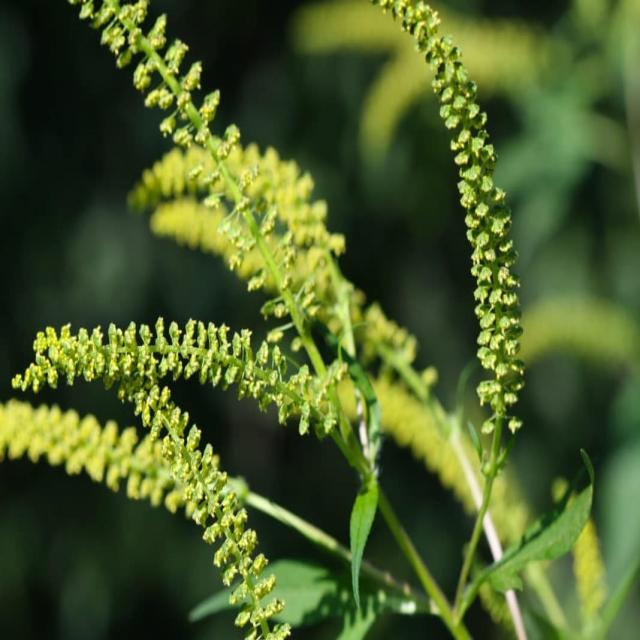ambrosia: (382, 0, 542, 446), (84, 0, 281, 288), (14, 292, 337, 428), (164, 434, 294, 640)
